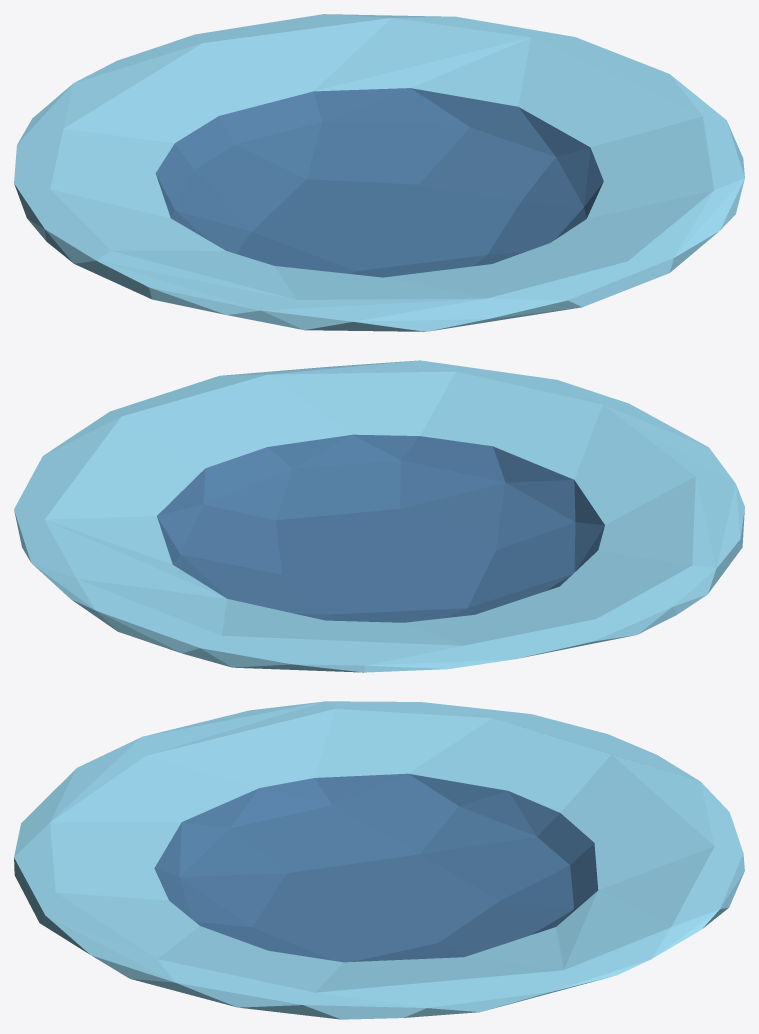
Rendered from PlateBig02Blue.fbx.
The picture shows the model from 3 angles, top to bottom: view 1: azimuth 30°, elevation 25°; view 2: azimuth 150°, elevation 25°; view 3: azimuth 270°, elevation 25°; orthographic projection.
Visible parts, largest first — view 1: PlateBig02LowPolyBlue; view 2: PlateBig02LowPolyBlue; view 3: PlateBig02LowPolyBlue.
Part boxes in pixels (x1,y1,x2,y2): PlateBig02LowPolyBlue: (14, 14, 744, 331); PlateBig02LowPolyBlue: (14, 360, 744, 672); PlateBig02LowPolyBlue: (14, 701, 744, 1019).
Size of the model in its own units: 28.86 by 2.82 by 28.91.
